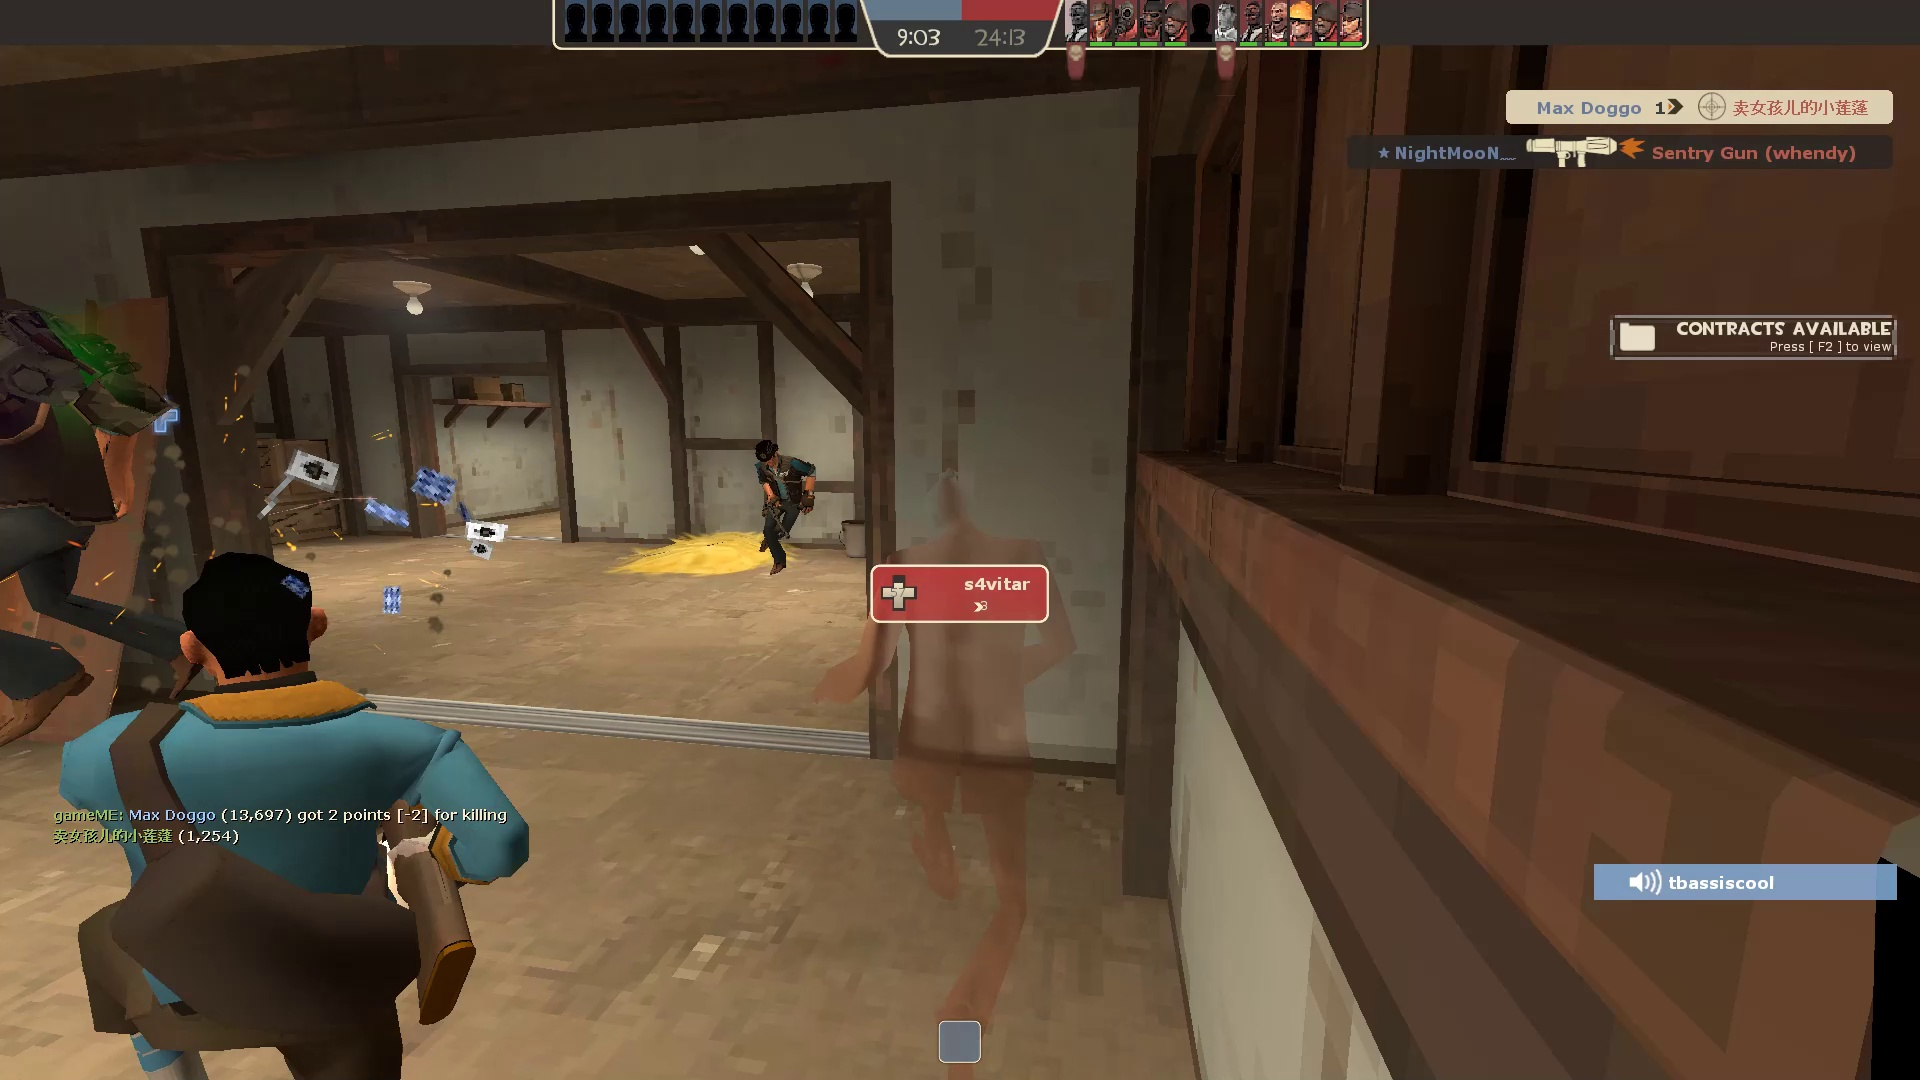blu_scout: (42, 546, 545, 1080)
blu_sniper: (1, 258, 258, 748), (744, 435, 822, 580)
